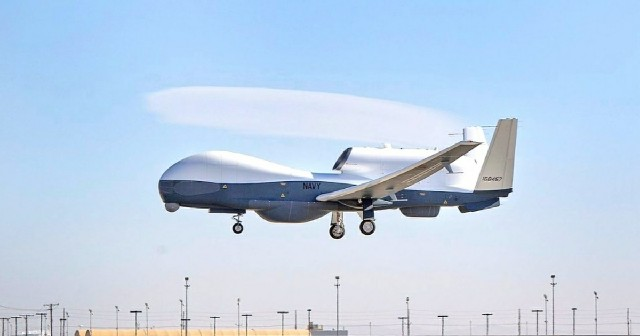maybay_khongnguoilai: (156, 122, 522, 230)
